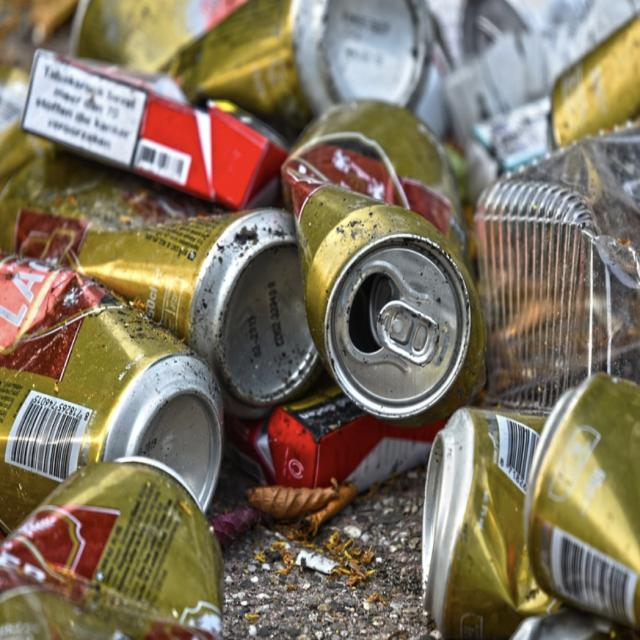biodegradable: (18, 30, 279, 216)
recyclable: (281, 124, 488, 437), (426, 360, 546, 635)
